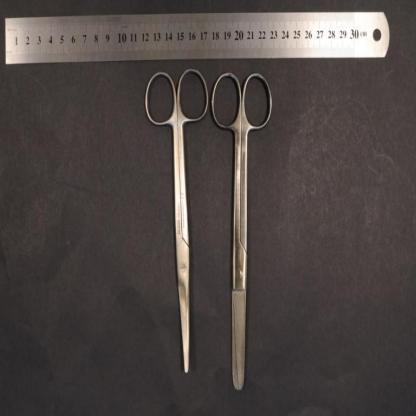Curved Mayo Scissors: (145, 64, 210, 374)
Dressing Scissors: (211, 70, 274, 392)
